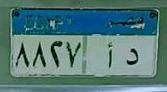2: (49, 40, 62, 69)
7: (65, 40, 81, 69)
8: (14, 41, 30, 70), (32, 40, 47, 69)
alif: (104, 42, 116, 72)
daal: (124, 46, 141, 69)
